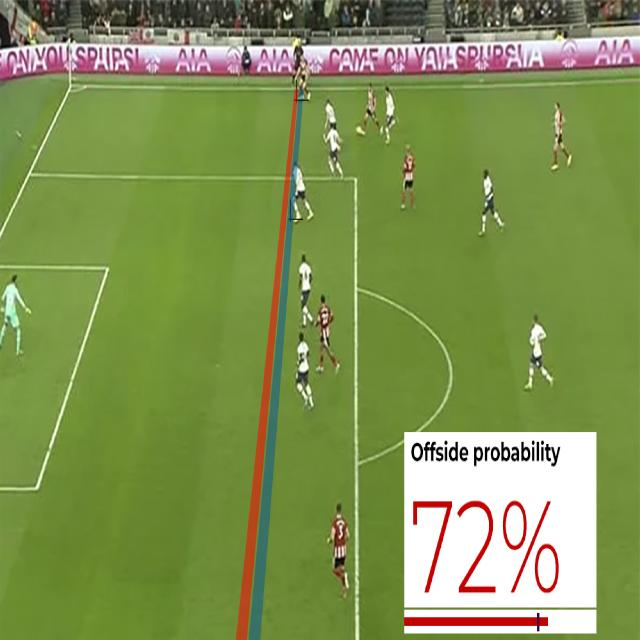offside: (274, 51, 314, 432)
